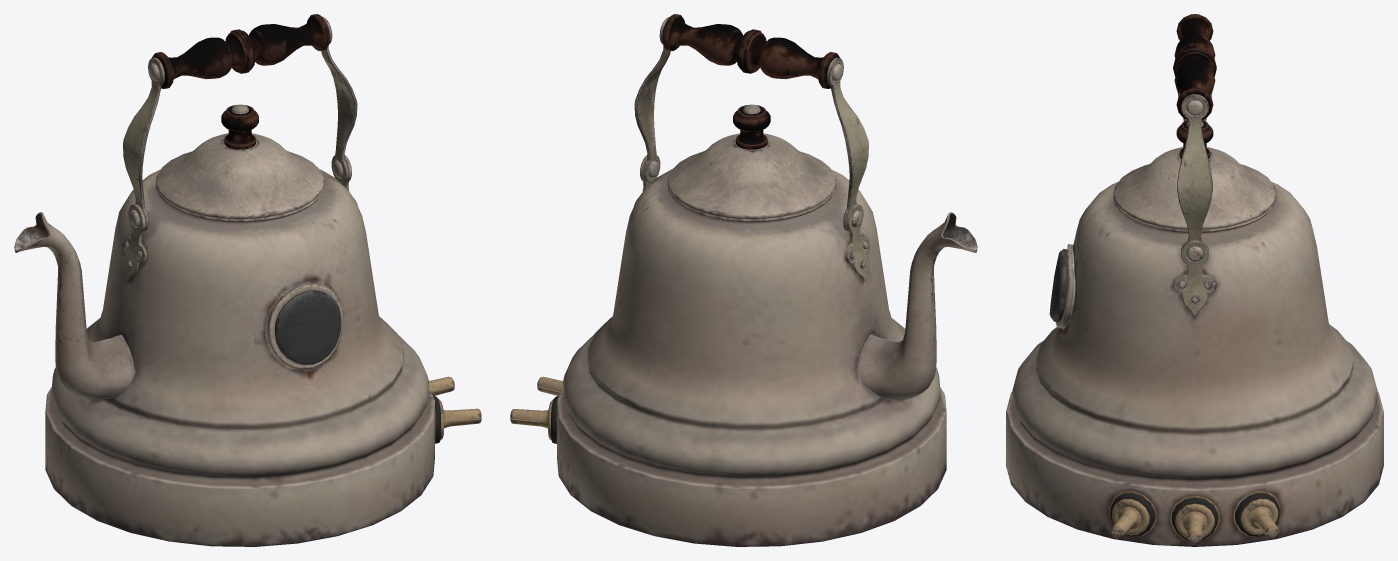
Rendered from vintage_electric_kettle.glb.
3 views of the same model, side by side, from view 1: azimuth 30°, elevation 25°; view 2: azimuth 150°, elevation 25°; view 3: azimuth 270°, elevation 25° (orthographic). The views are drawn at different scales.
Visible parts, largest first — view 1: vintage_electric_kettle; view 2: vintage_electric_kettle; view 3: vintage_electric_kettle.
Part boxes in pixels (left/top/right/bottom): vintage_electric_kettle: left=14, top=14, right=481, bottom=546; vintage_electric_kettle: left=510, top=14, right=977, bottom=546; vintage_electric_kettle: left=1006, top=14, right=1383, bottom=546.
Bounding box in the file's own units: 0.3209 × 0.3047 × 0.2486.
Materials: 2 (2 with a texture image).
